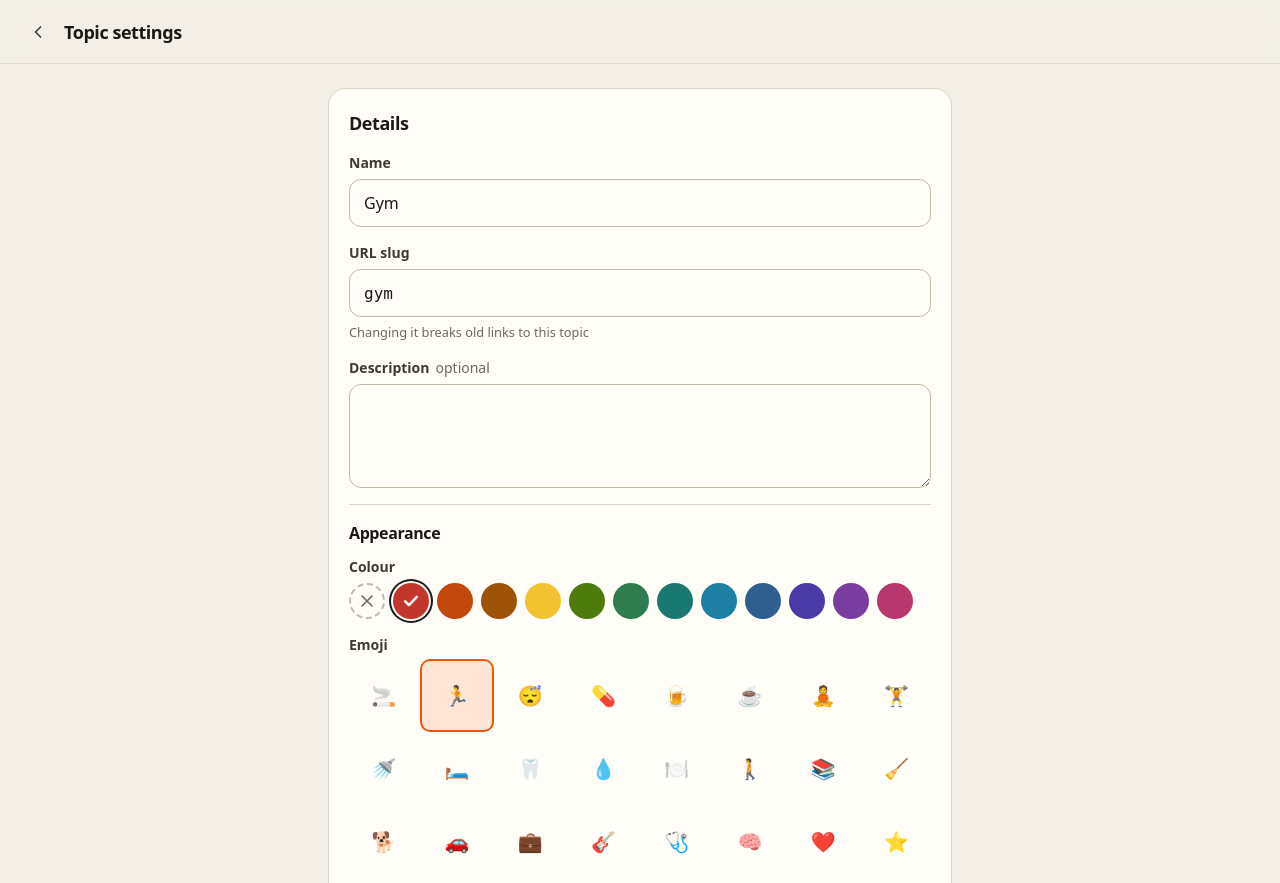
Test: SettingsPage saves on one topic › saves the details after a schedule save without a conflict, keeping the unsaved edit
Click the radio button named "Blue".
click(763, 601)  # box [745,583,781,619]
(page scrolled)
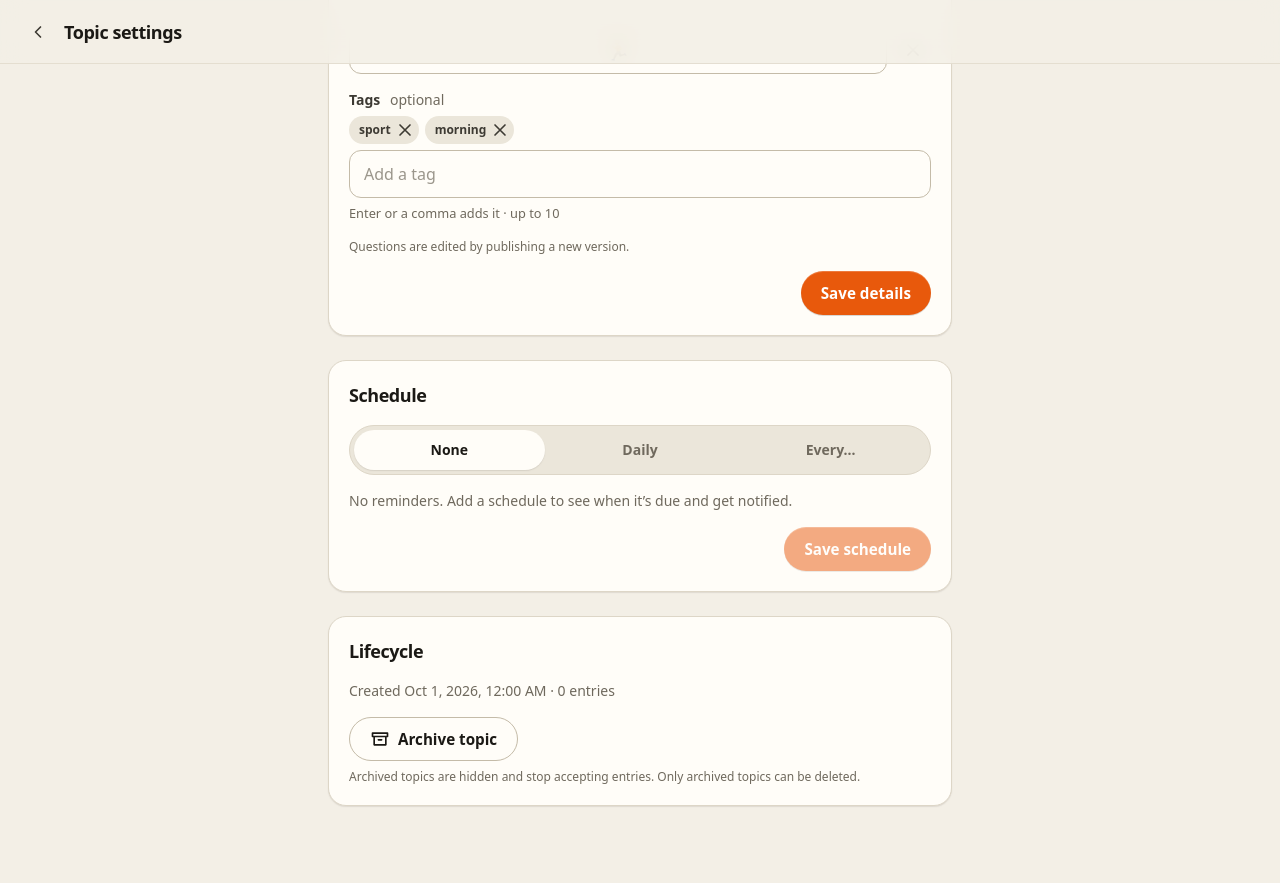
Click the radio button labelled "Daily".
click(640, 450)  # box [622,440,658,459]
(page scrolled)
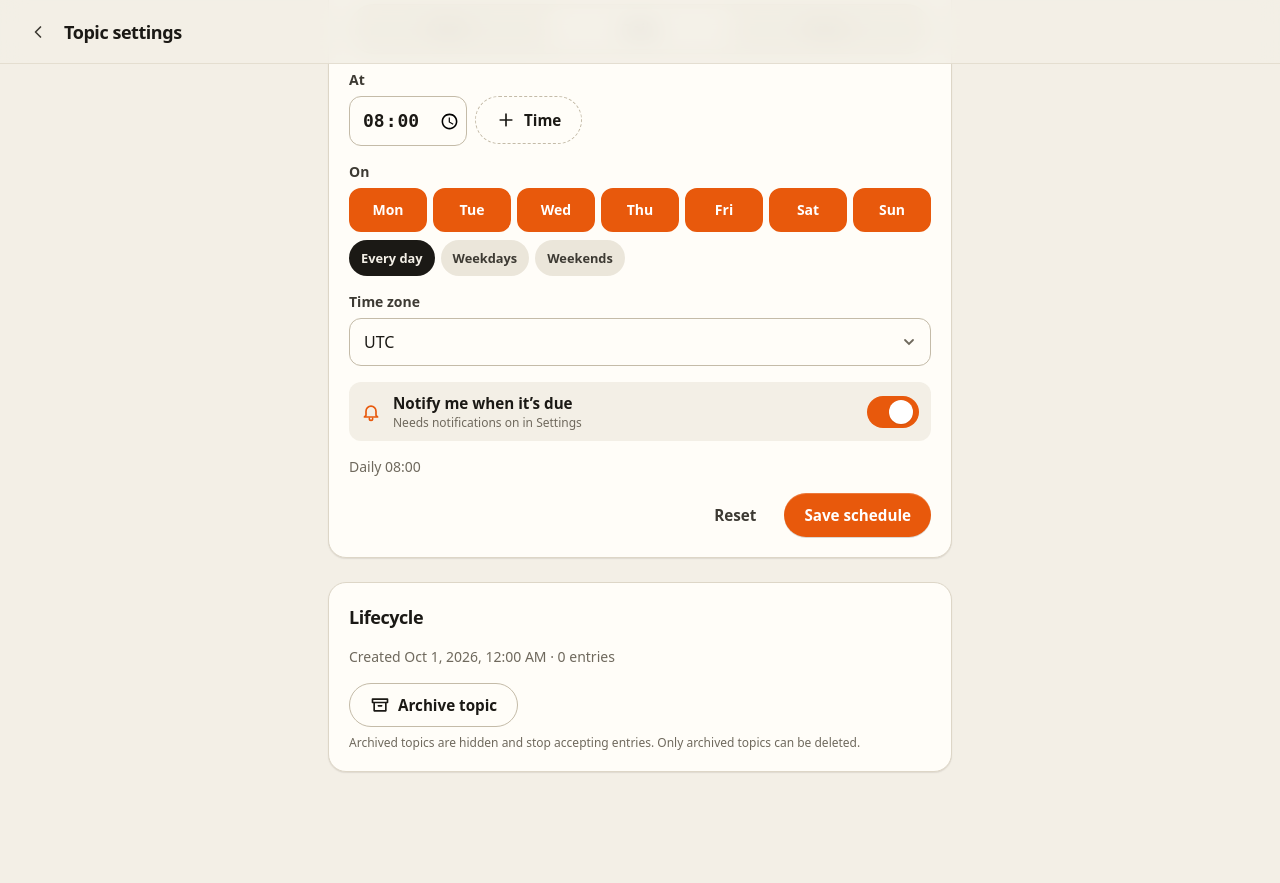
Click the button "Save schedule".
click(858, 515)  # box [784,493,931,537]
(page scrolled)
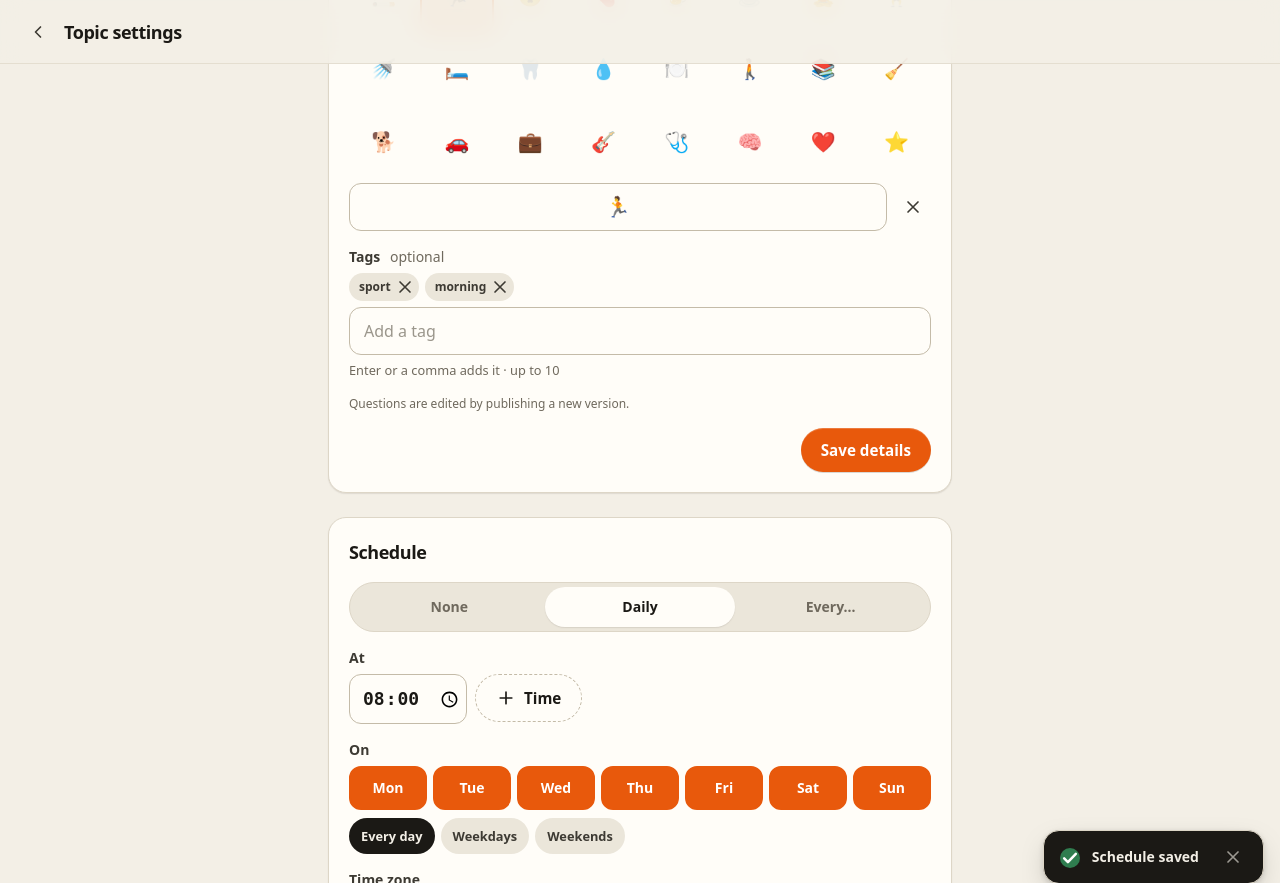
Expected: the text "Schedule saved" is shown, [1092,847,1199,867]
Click the button "Save details".
click(866, 450)  # box [801,428,931,472]
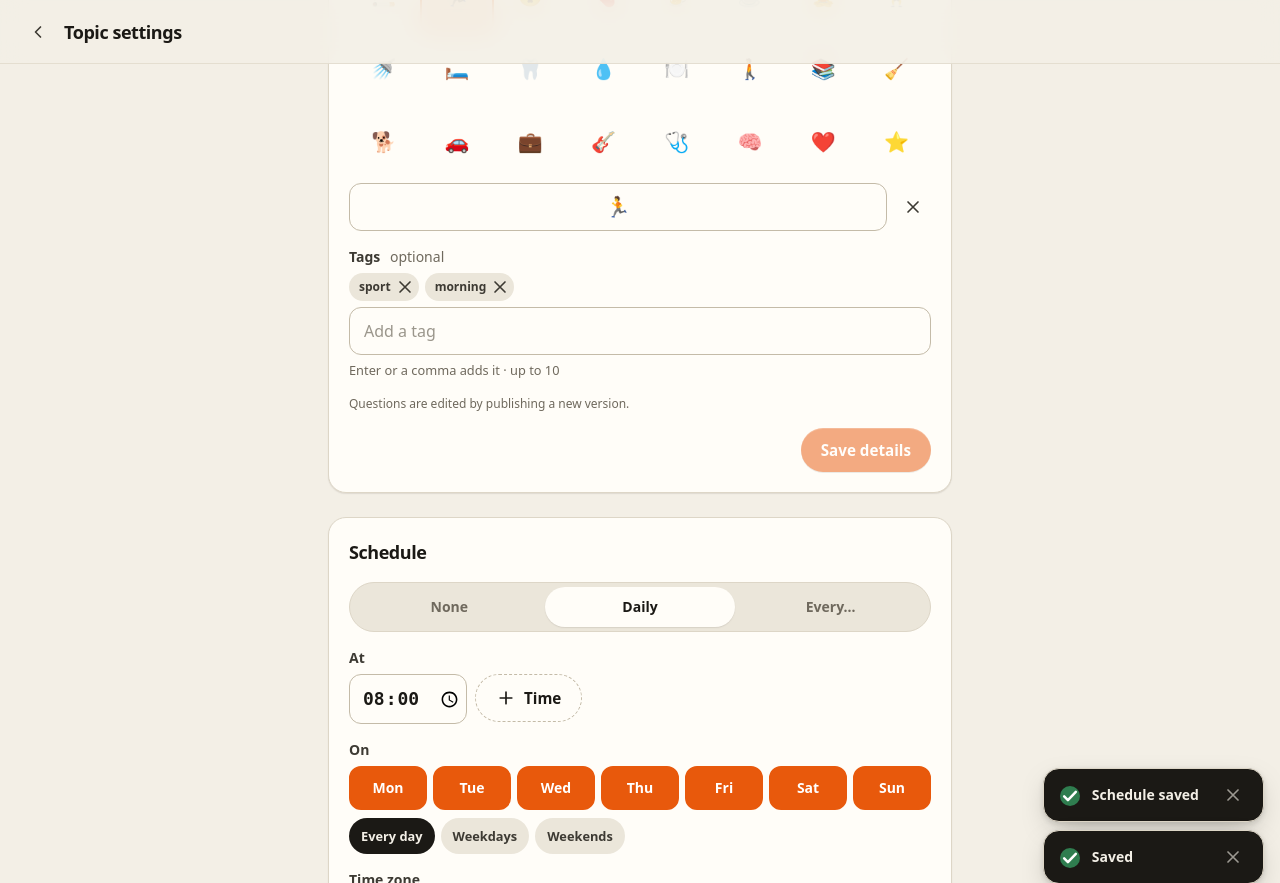
Expected: the text "Saved" is shown, [1092,847,1133,866]
